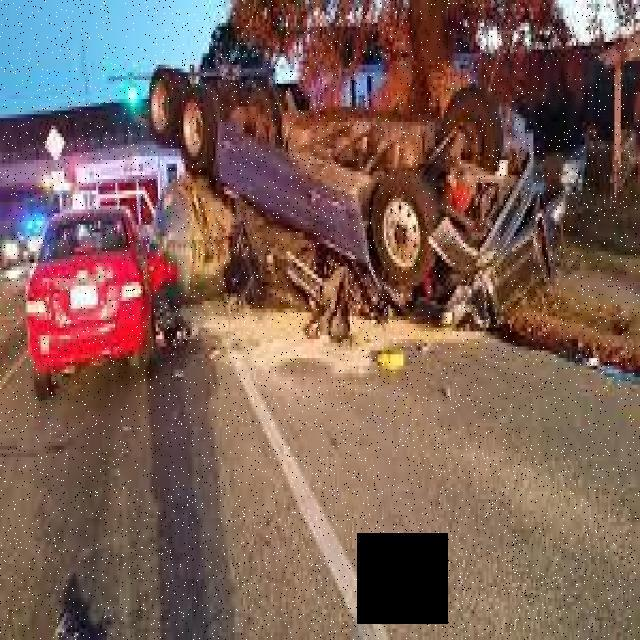severe: (137, 46, 552, 332)
